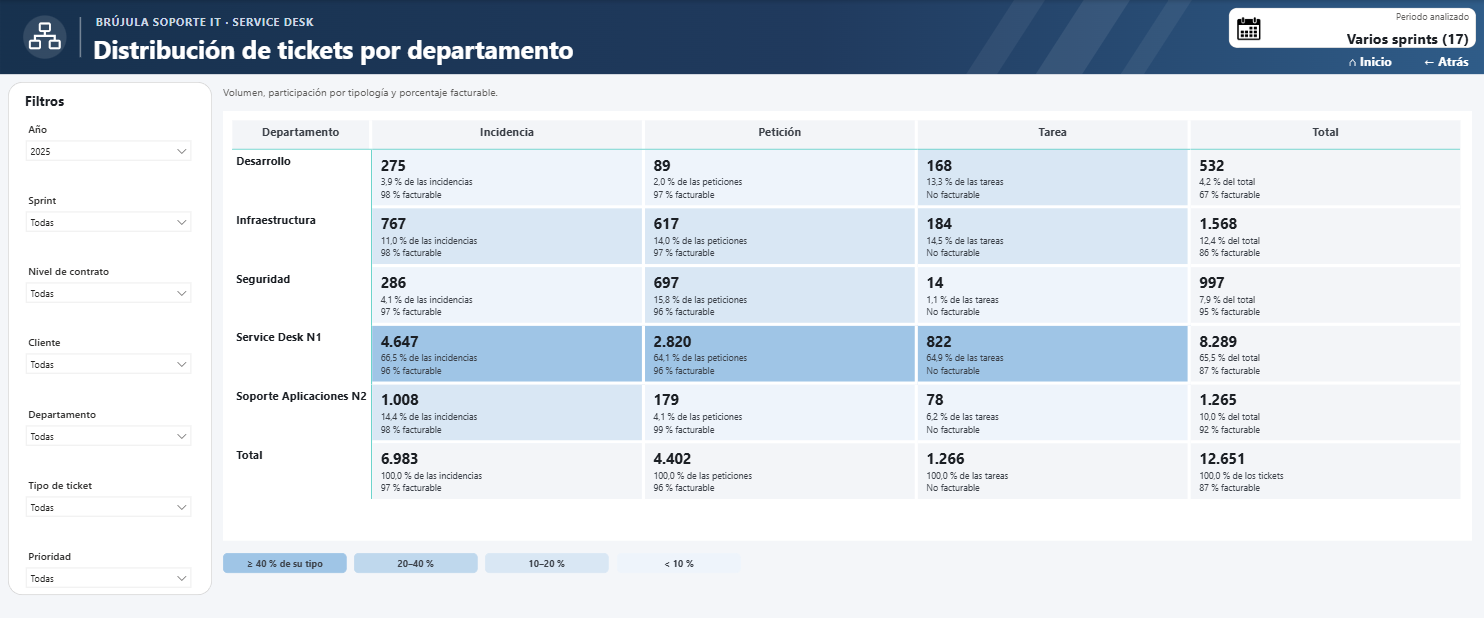

Layout of this report page (visuals, bound fields, positions):
{"tool":"powerbi","page":{"name":"Tickets por departamento","canvas":[1920,800],"ordinal":7},"visuals":[{"type":"shape","box":[10.8,106.4,263.9,663.9],"z":0},{"type":"textbox","box":[32,118,216,32],"z":1000},{"type":"slicer","fields":{"Values":["Sprint.Año"]},"box":[28,158,224,80],"z":2000},{"type":"slicer","fields":{"Values":["Sprint.Sprint"]},"box":[28,250,224,80],"z":3000},{"type":"slicer","fields":{"Values":["Cliente.Nivel de contrato"]},"box":[28,342,224,80],"z":4000},{"type":"slicer","fields":{"Values":["Cliente.Cliente"]},"box":[28,434,224,80],"z":5000},{"type":"slicer","fields":{"Values":["Departamento.Departamento"]},"box":[28,526,224,80],"z":6000},{"type":"slicer","fields":{"Values":["Política SLA.Tipo"]},"box":[28,618,224,80],"z":7000},{"type":"slicer","fields":{"Values":["Política SLA.Prioridad"]},"box":[28,710,224,80],"z":8000},{"type":"textbox","box":[120,42,1000,44],"z":9000},{"type":"textbox","box":[288,110,1616,24],"z":10000},{"type":"pivotTable","fields":{"Columns":["Política SLA.Tipo"],"Rows":["Departamento.Departamento"],"Values":["Medidas.Celda departamento SVG"]},"box":[288,144,1616,556],"z":11000},{"type":"textbox","box":[288,716,160,26],"z":12000},{"type":"textbox","box":[458,716,160,26],"z":13000},{"type":"textbox","box":[628,716,160,26],"z":14000},{"type":"textbox","box":[798,716,160,26],"z":15000},{"type":"cardVisual","fields":{"Data":["Medidas.Periodo seleccionado"]},"box":[1580,0,340,72],"z":15001},{"type":"actionButton","box":[1823,56.6,97,44.4],"z":15002},{"type":"actionButton","box":[1723.7,56.6,99.7,44.4],"z":15003}]}

Visuals, with their boxes in screenshot pixels (x1, y1, x2, y2), scaled from the page's 1920x800 canvas onto the 1484x618 screenshot:
shape: (left=8, top=82, right=212, bottom=595)
textbox: (left=25, top=91, right=192, bottom=116)
slicer - Sprint.Año: (left=22, top=122, right=195, bottom=184)
slicer - Sprint.Sprint: (left=22, top=193, right=195, bottom=255)
slicer - Cliente.Nivel de contrato: (left=22, top=264, right=195, bottom=326)
slicer - Cliente.Cliente: (left=22, top=335, right=195, bottom=397)
slicer - Departamento.Departamento: (left=22, top=406, right=195, bottom=468)
slicer - Política SLA.Tipo: (left=22, top=477, right=195, bottom=539)
slicer - Política SLA.Prioridad: (left=22, top=548, right=195, bottom=610)
textbox: (left=93, top=32, right=866, bottom=66)
textbox: (left=223, top=85, right=1472, bottom=104)
pivotTable - Política SLA.Tipo x Departamento.Departamento: (left=223, top=111, right=1472, bottom=541)
textbox: (left=223, top=553, right=346, bottom=573)
textbox: (left=354, top=553, right=478, bottom=573)
textbox: (left=485, top=553, right=609, bottom=573)
textbox: (left=617, top=553, right=740, bottom=573)
cardVisual - Medidas.Periodo seleccionado: (left=1221, top=0, right=1483, bottom=56)
actionButton: (left=1409, top=44, right=1483, bottom=78)
actionButton: (left=1332, top=44, right=1409, bottom=78)
